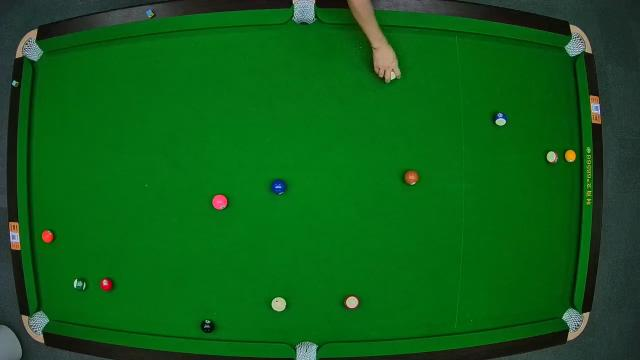bag1: (20, 40, 40, 61)
bag2: (294, 0, 316, 26)
bag3: (565, 35, 587, 56)
bag4: (29, 310, 47, 332)
bag5: (295, 342, 319, 360)
bag6: (563, 310, 585, 330)
ball0: (271, 296, 287, 312)
ball1: (564, 149, 576, 163)
ball10: (493, 112, 507, 126)
ball11: (344, 294, 360, 310)
ball14: (72, 276, 88, 292)
ball15: (547, 150, 559, 164)
ball2: (269, 178, 287, 196)
ball3: (99, 278, 113, 290)
ball4: (212, 194, 228, 210)
ball5: (42, 230, 54, 244)
ball7: (402, 170, 420, 186)
ball8: (200, 318, 216, 334)
